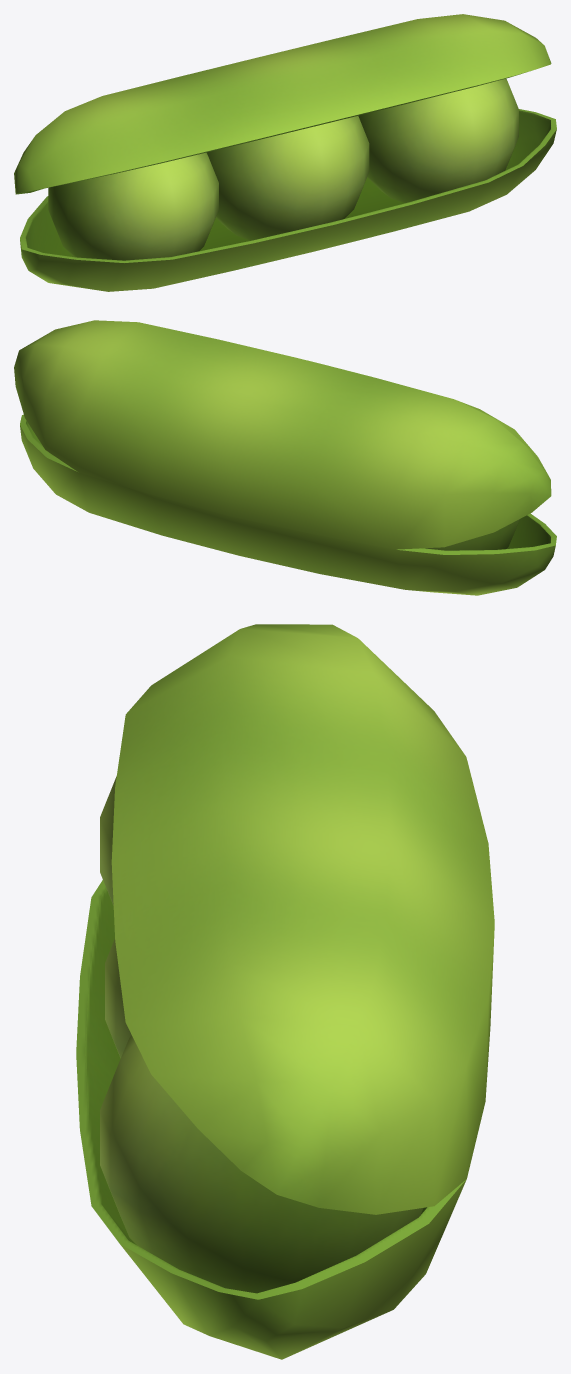
Rendered from ENV1810022.fbx.
The picture shows the model from 3 angles, top to bottom: view 1: azimuth 30°, elevation 25°; view 2: azimuth 150°, elevation 25°; view 3: azimuth 270°, elevation 25°; orthographic projection. The views are drawn at different scales.
Visible parts, largest first — view 1: smENV1810022; view 2: smENV1810022; view 3: smENV1810022.
Part boxes in pixels (x1,y1,x2,y2): smENV1810022: [14, 14, 556, 291]; smENV1810022: [14, 320, 556, 595]; smENV1810022: [76, 624, 494, 1359].
Size of the model in its own units: 9.59 by 3.08 by 3.25.
Materials: 1 (1 with a texture image).
